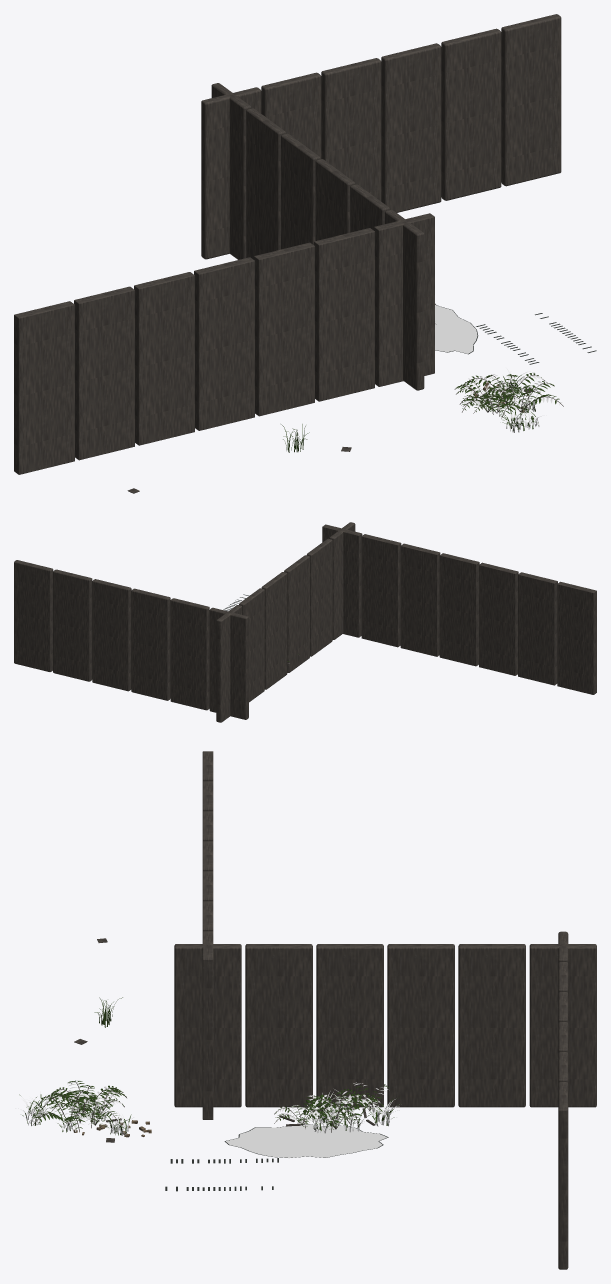
The model's file is SM_Env_Tile_m1_m3.fbx.
3 views of the same model, one above another, from view 1: azimuth 30°, elevation 25°; view 2: azimuth 150°, elevation 25°; view 3: azimuth 270°, elevation 25° (orthographic). The views are drawn at different scales.
Parts seen in each view (by area): view 1: SM_Env_Tile_m1_m3; view 2: SM_Env_Tile_m1_m3; view 3: SM_Env_Tile_m1_m3.
Boxes of the visible parts, x1=… form: SM_Env_Tile_m1_m3: x1=14, y1=14, x2=596, y2=493; SM_Env_Tile_m1_m3: x1=14, y1=522, x2=596, y2=722; SM_Env_Tile_m1_m3: x1=15, y1=751, x2=596, y2=1269.
Size of what is drawn, in the model's own units: 1195 by 821 by 250.
Materials: 8 (4 with a texture image).
